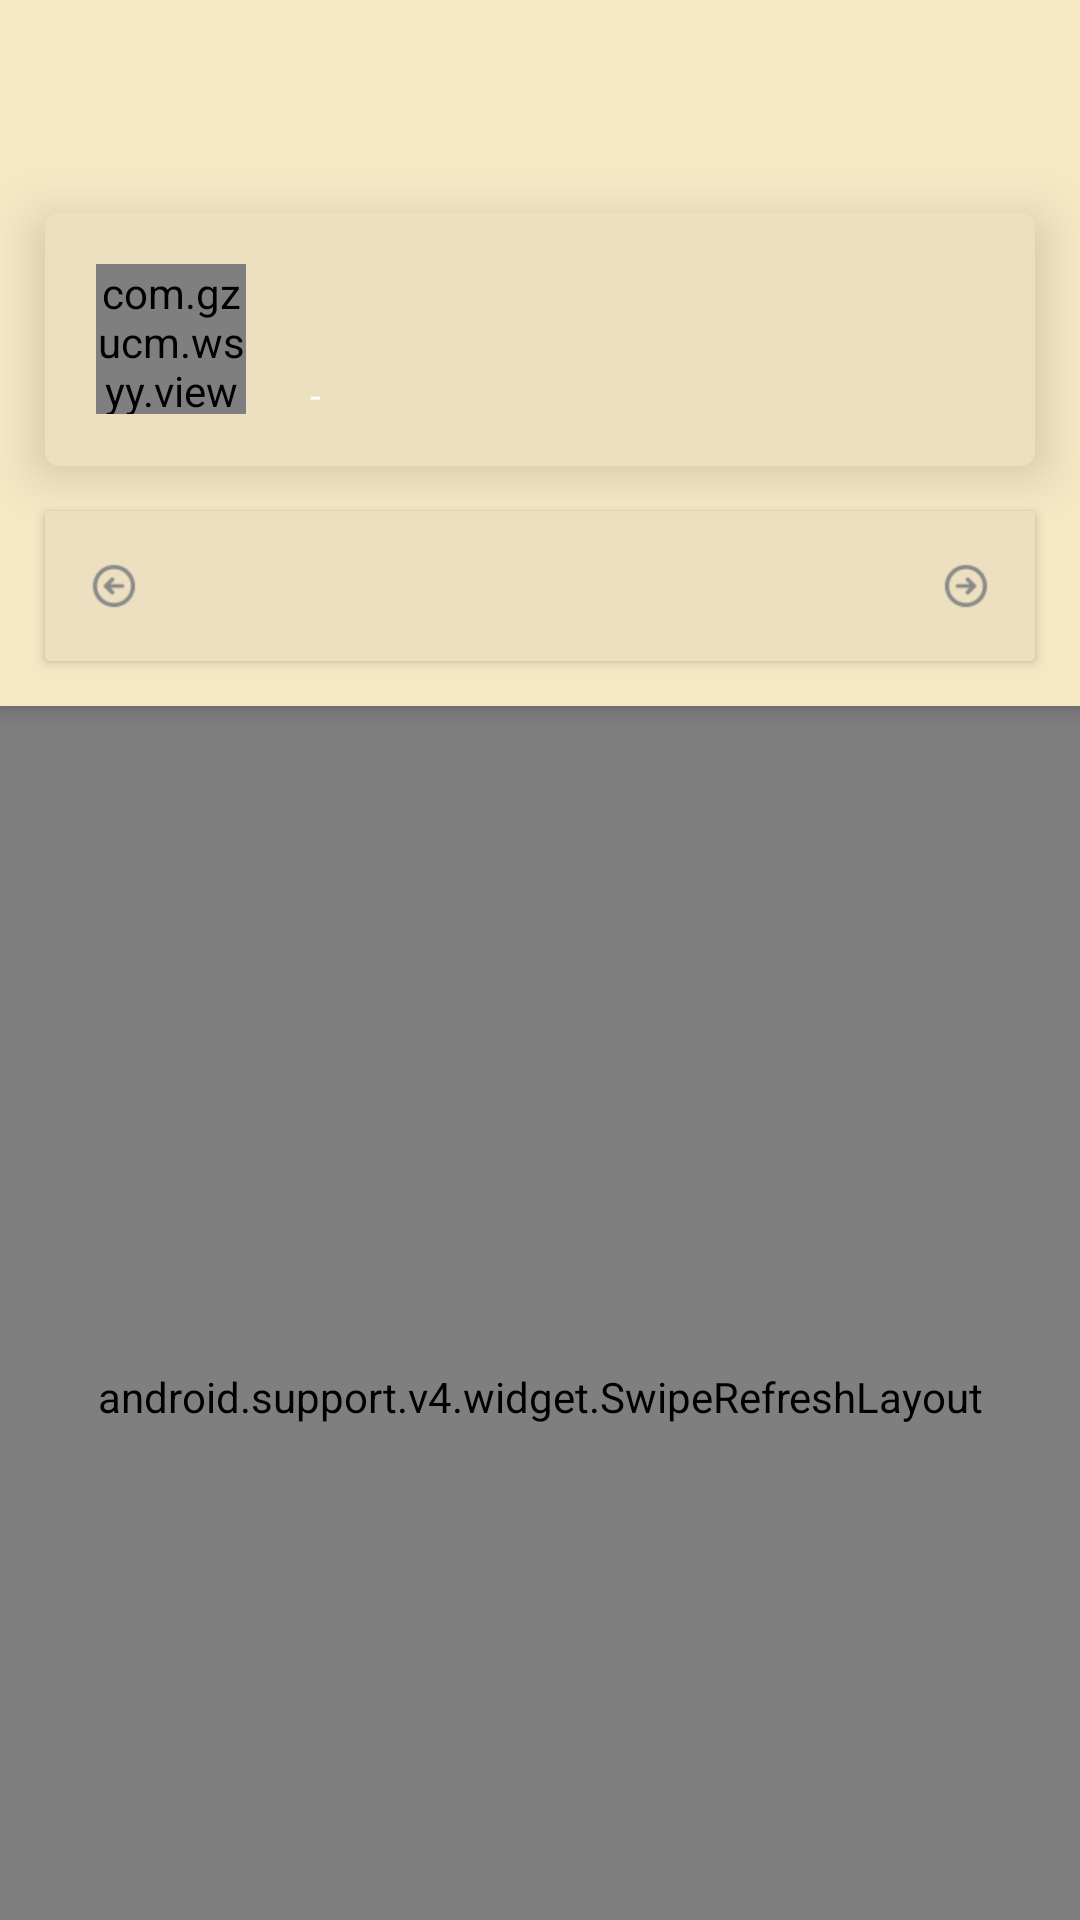

Icon bounding boxes for this 1080×1920 phone screenshot, format (x1, y1, x2, y2):
larrow: (93, 565, 135, 607)
rarrow: (945, 565, 987, 607)
